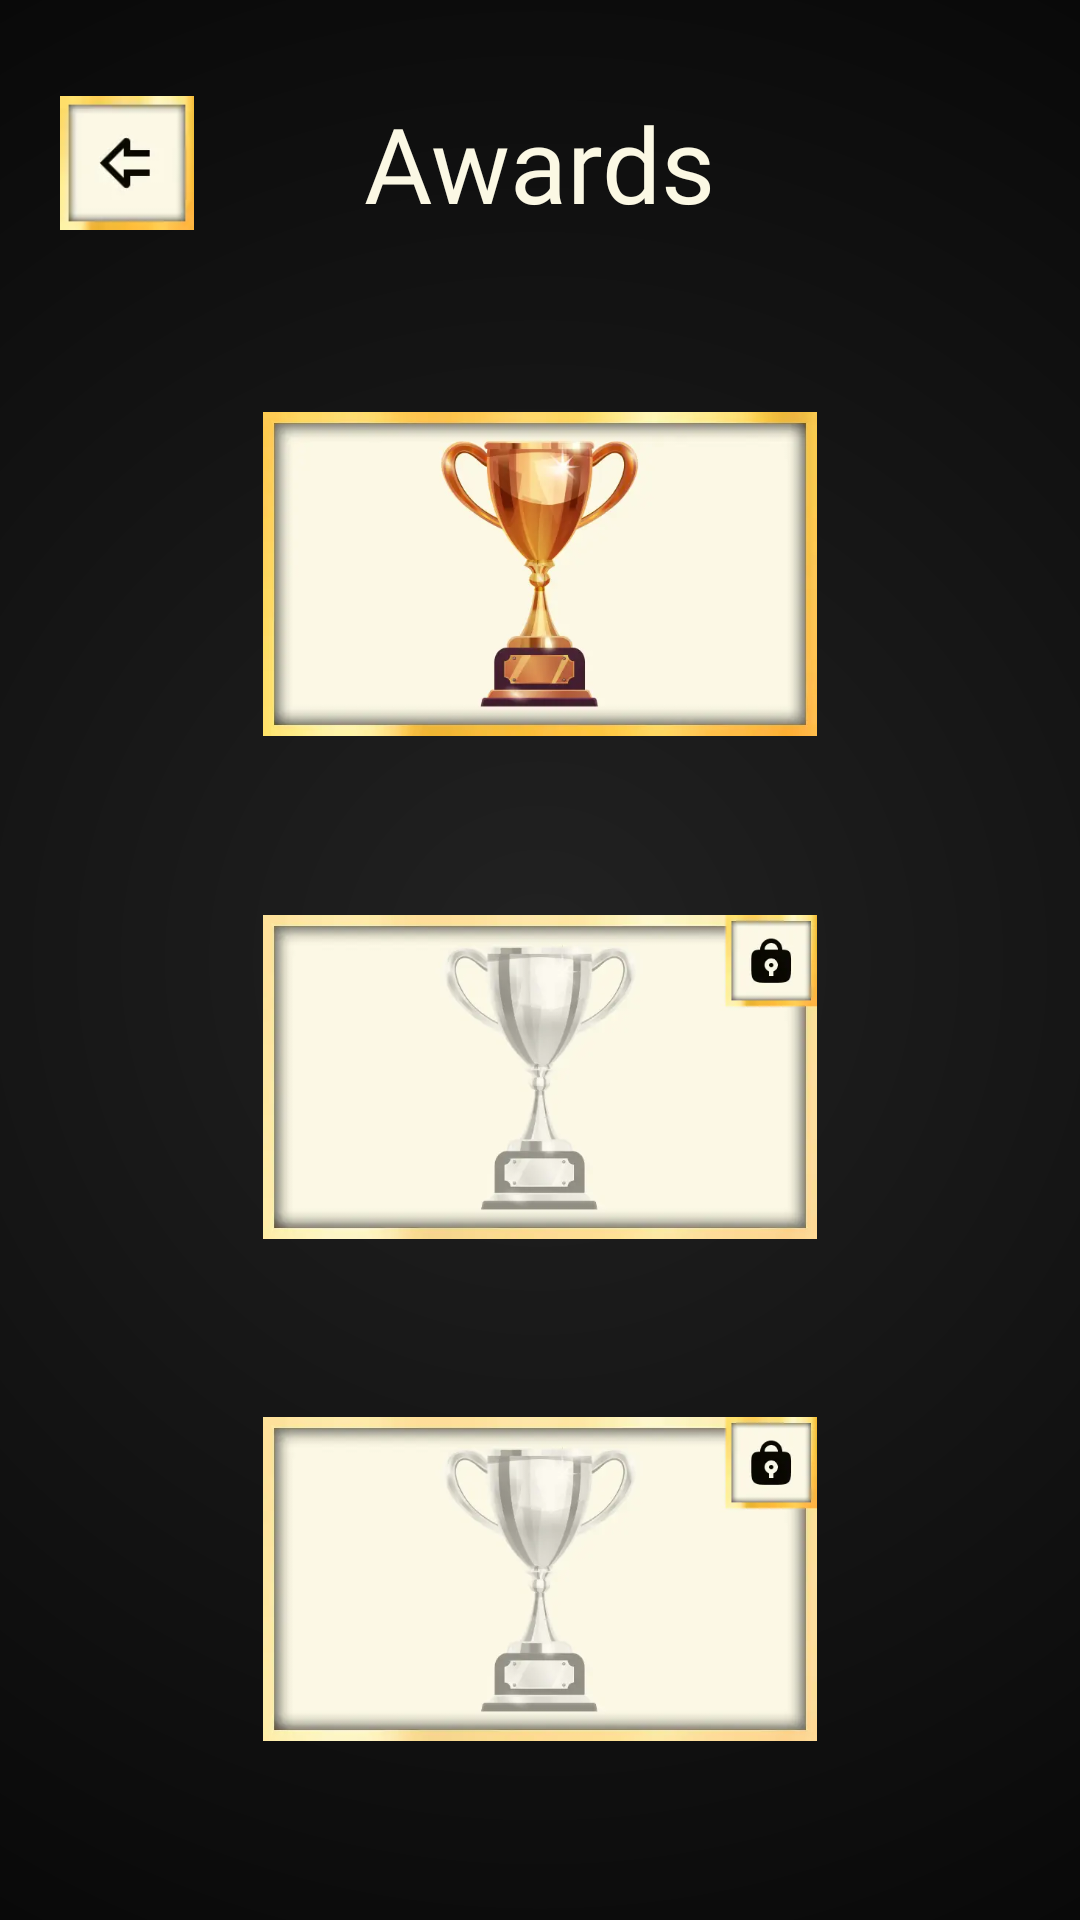

Point at icon controls on the screen. Image size 1080 × 1920, points as (x,y).
back: (127,163)
